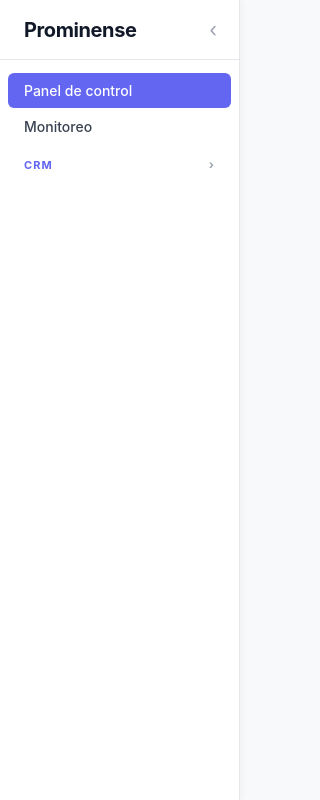
Test: SBW-5 (F2): sin messaging.bulk no hay "Envío masivo" › oculta "Envío masivo" pero mantiene "Bandeja de entrada"/"Configuración"
Click the button "CRM ›". click: coordinates (120, 165)
box: [8, 148, 231, 182]
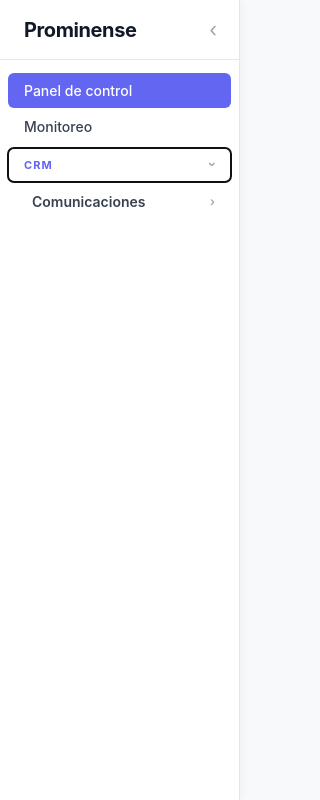
Click the button "Comunicaciones ›". click: coordinates (120, 202)
box: [8, 184, 231, 219]
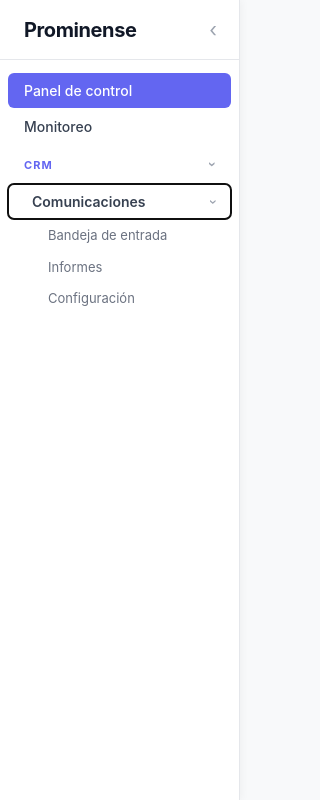
Expected: the link "Bandeja de entrada" is shown, [48, 227, 167, 243]
Expected: the link "Configuración" is shown, [48, 290, 135, 306]
